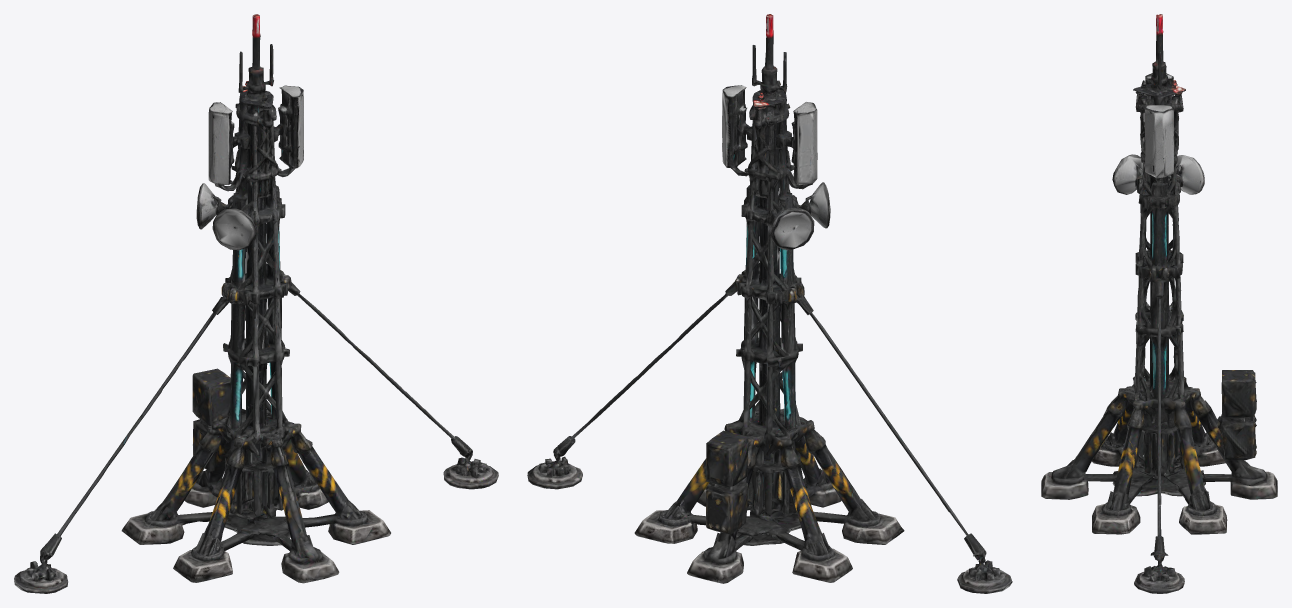
File: neon_tower.glb
The picture shows the model from 3 angles, left to right: view 1: azimuth 30°, elevation 25°; view 2: azimuth 150°, elevation 25°; view 3: azimuth 270°, elevation 25°; orthographic projection. The views are drawn at different scales.
Visible parts, largest first — view 1: neon_tower; view 2: neon_tower; view 3: neon_tower.
Boxes of the visible parts, x1=… form: neon_tower: x1=14, y1=14, x2=498, y2=593; neon_tower: x1=527, y1=14, x2=1012, y2=593; neon_tower: x1=1041, y1=14, x2=1277, y2=593.
Bounding box in the file's own units: 183 × 190 × 85.77.
1 material, 1 textured.
